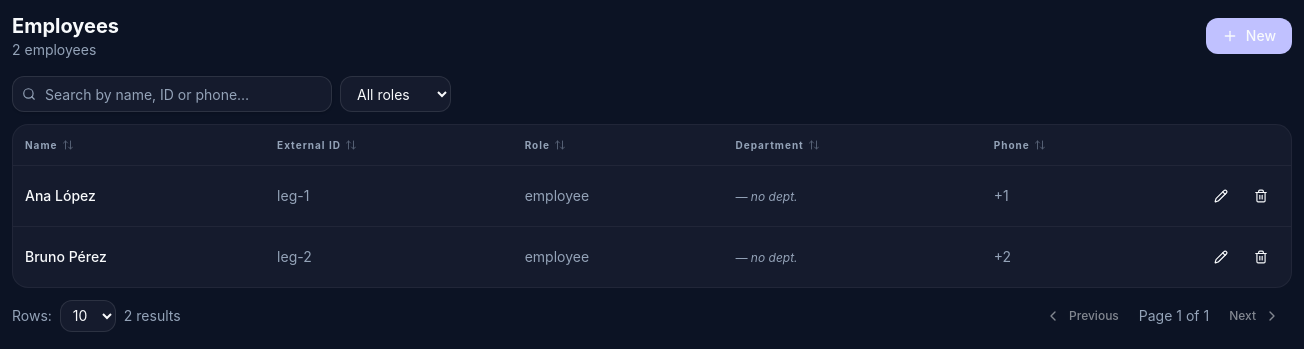
EmployeesPage › search global filtra por nombre / externalId / phone
Check: the link "Ana López" is shown, box [25, 186, 96, 204]
Type "leg-2" into the field with test id "datatable-search" at (172,94), box [12, 76, 332, 112]
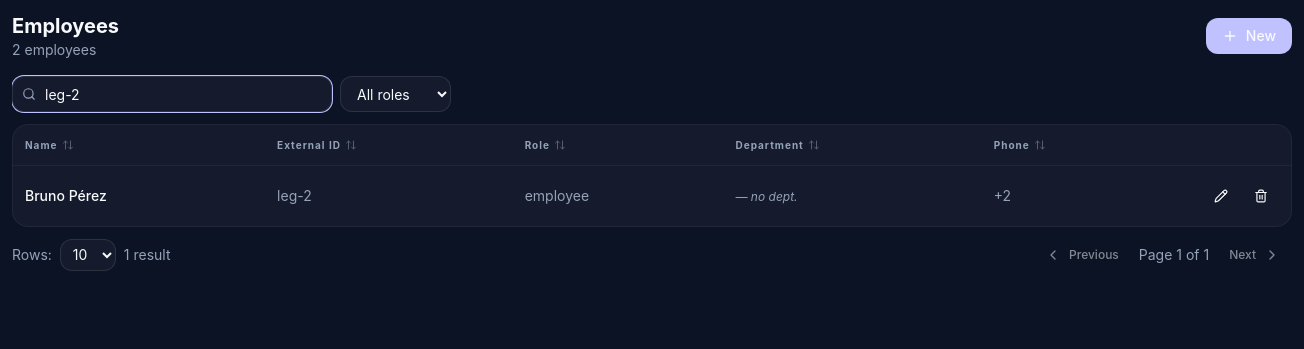
Check: the link "Bruno Pérez" is shown, box [25, 186, 107, 204]
Check: the link "Ana López" is gone
